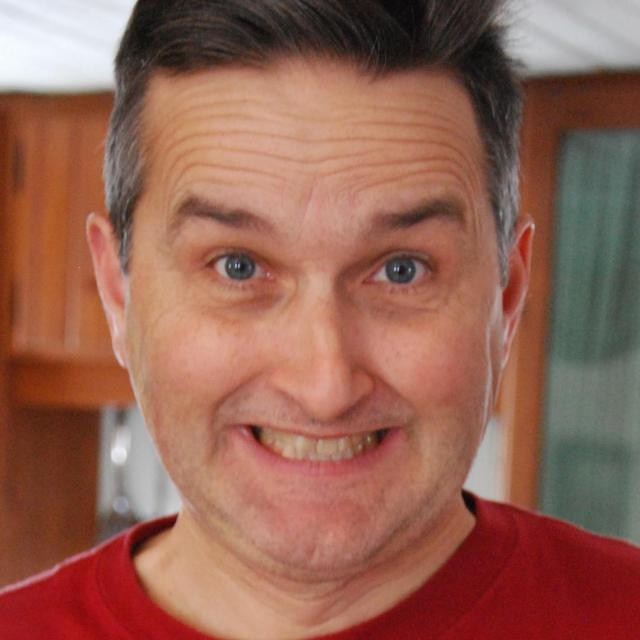surprised: (133, 94, 534, 580)
